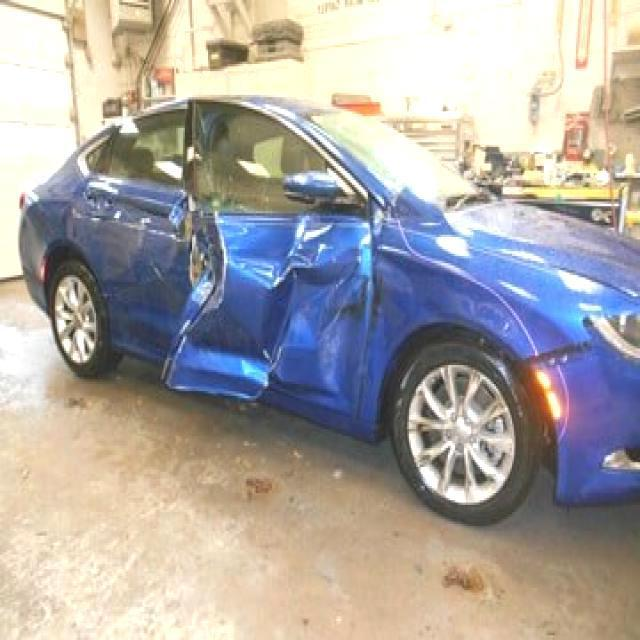minor: (527, 348, 585, 371)
moderate: (164, 214, 395, 427)
